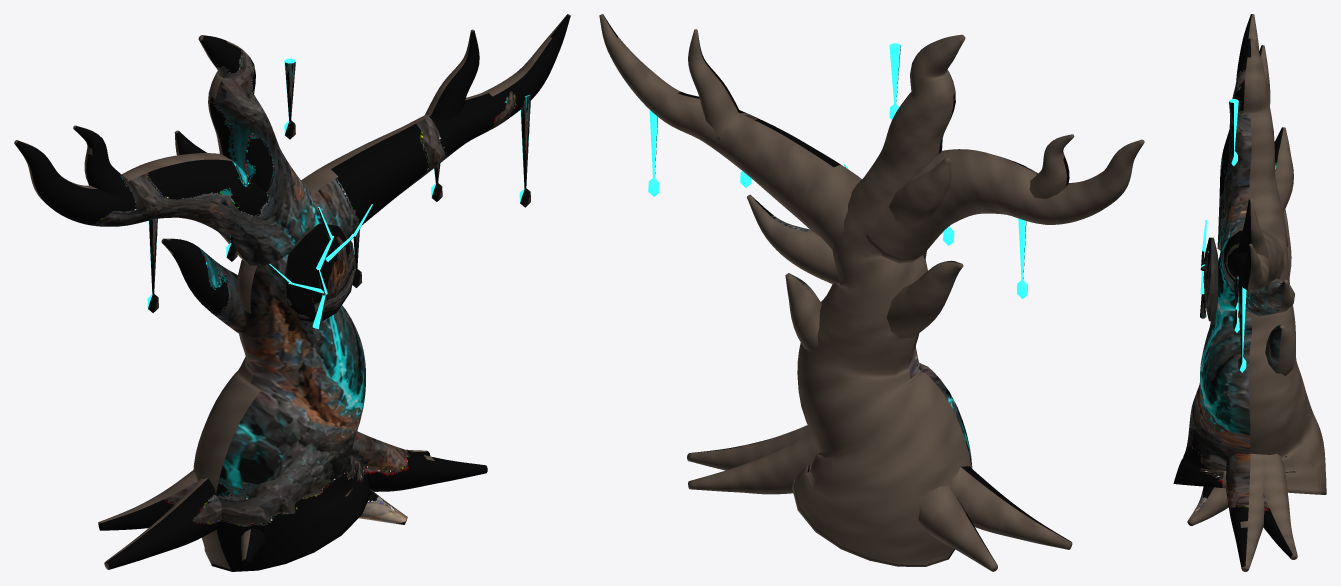
The model's file is ashroot-tree-r10.glb.
The picture shows the model from 3 angles, left to right: view 1: azimuth 30°, elevation 25°; view 2: azimuth 150°, elevation 25°; view 3: azimuth 270°, elevation 25°; orthographic projection. The views are drawn at different scales.
Visible parts, largest first — view 1: Ashroot R7 | fused twisting trunk, Ashroot R7 | long left bough, Ashroot R7 | sweeping right bough, Ashroot R7 | black heart hollow, Ashroot R7 | exposed root 6, Ashroot R7 | exposed root 1, Ashroot R7 | rear broken limb 1, Ashroot R7 | right fork, Ashroot R7 | exposed root 2, Ashroot R7 | left fork, Ashroot R7 | exposed root 4; view 2: Ashroot R7 | fused twisting trunk, Ashroot R7 | sweeping right bough, Ashroot R7 | long left bough, Ashroot R7 | exposed root 1, Ashroot R7 | exposed root 5, Ashroot R7 | rear broken limb 1, Ashroot R7 | exposed root 2, Ashroot R7 | rear broken limb 3, Ashroot R7 | rear broken limb 4, Ashroot R7 | right fork, Ashroot R7 | exposed root 6, Ashroot R7 | rear broken limb 2 (+1 smaller); view 3: Ashroot R7 | fused twisting trunk, Ashroot R7 | exposed root 6, Ashroot R7 | sweeping right bough, Ashroot R7 | exposed root 5, Ashroot R7 | rear broken limb 3, Ashroot R7 | rear broken limb 2, Ashroot R7 | long left bough, Ashroot R7 | rear broken limb 4, Ashroot R7 | black heart hollow, Ashroot R7 | exposed root 4, Ashroot R7 | right fork, Ashroot R7 | hanging cyan sap 5 (+2 smaller).
Part boxes in pixels (x1=…): Ashroot R7 | fused twisting trunk: x1=193, y1=35, x2=370, y2=571; Ashroot R7 | long left bough: x1=14, y1=140, x2=306, y2=265; Ashroot R7 | sweeping right bough: x1=301, y1=14, x2=570, y2=237; Ashroot R7 | black heart hollow: x1=283, y1=223, x2=356, y2=321; Ashroot R7 | exposed root 6: x1=351, y1=431, x2=487, y2=491; Ashroot R7 | exposed root 1: x1=104, y1=478, x2=221, y2=569; Ashroot R7 | rear broken limb 1: x1=161, y1=238, x2=247, y2=335; Ashroot R7 | right fork: x1=425, y1=29, x2=479, y2=119; Ashroot R7 | exposed root 2: x1=98, y1=469, x2=197, y2=530; Ashroot R7 | left fork: x1=73, y1=125, x2=129, y2=197; Ashroot R7 | exposed root 4: x1=359, y1=489, x2=407, y2=524; Ashroot R7 | fused twisting trunk: x1=792, y1=34, x2=972, y2=566; Ashroot R7 | sweeping right bough: x1=599, y1=14, x2=867, y2=257; Ashroot R7 | long left bough: x1=864, y1=139, x2=1144, y2=263; Ashroot R7 | exposed root 1: x1=950, y1=466, x2=1072, y2=549; Ashroot R7 | exposed root 5: x1=688, y1=433, x2=819, y2=494; Ashroot R7 | rear broken limb 1: x1=886, y1=260, x2=963, y2=338; Ashroot R7 | exposed root 2: x1=918, y1=485, x2=997, y2=571; Ashroot R7 | rear broken limb 3: x1=747, y1=194, x2=839, y2=284; Ashroot R7 | rear broken limb 4: x1=889, y1=157, x2=951, y2=225; Ashroot R7 | right fork: x1=688, y1=29, x2=739, y2=139; Ashroot R7 | exposed root 6: x1=687, y1=425, x2=810, y2=470; Ashroot R7 | rear broken limb 2: x1=785, y1=273, x2=821, y2=351; Ashroot R7 | fused twisting trunk: x1=1173, y1=38, x2=1326, y2=494; Ashroot R7 | exposed root 6: x1=1225, y1=453, x2=1264, y2=571; Ashroot R7 | sweeping right bough: x1=1218, y1=229, x2=1284, y2=295; Ashroot R7 | exposed root 5: x1=1263, y1=453, x2=1297, y2=559; Ashroot R7 | rear broken limb 3: x1=1245, y1=278, x2=1294, y2=316; Ashroot R7 | rear broken limb 2: x1=1265, y1=324, x2=1294, y2=375; Ashroot R7 | long left bough: x1=1217, y1=14, x2=1288, y2=250; Ashroot R7 | rear broken limb 4: x1=1274, y1=127, x2=1293, y2=211; Ashroot R7 | black heart hollow: x1=1203, y1=237, x2=1218, y2=321; Ashroot R7 | exposed root 4: x1=1187, y1=486, x2=1228, y2=525; Ashroot R7 | right fork: x1=1238, y1=198, x2=1269, y2=263; Ashroot R7 | hanging cyan sap 5: x1=1237, y1=277, x2=1246, y2=357.
Size of the model in its own units: 5.13 by 4.72 by 1.47.
Materials: 4 (1 with a texture image).
